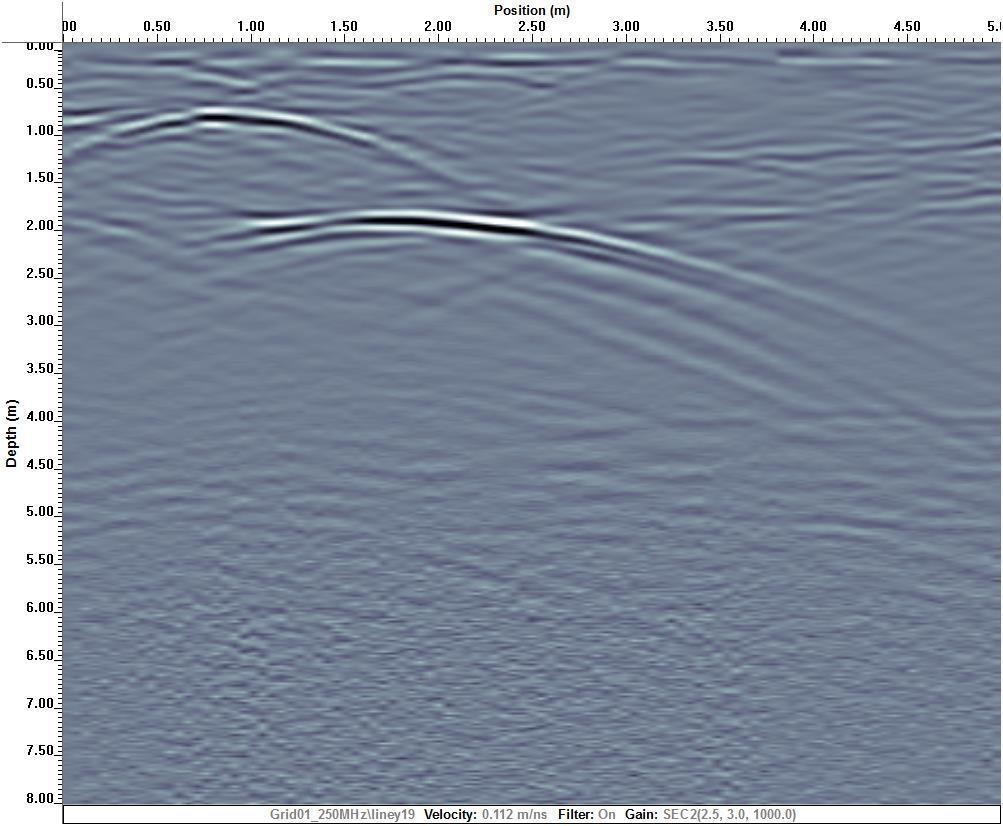hyperbola: (123, 209, 822, 300), (64, 106, 465, 187)
